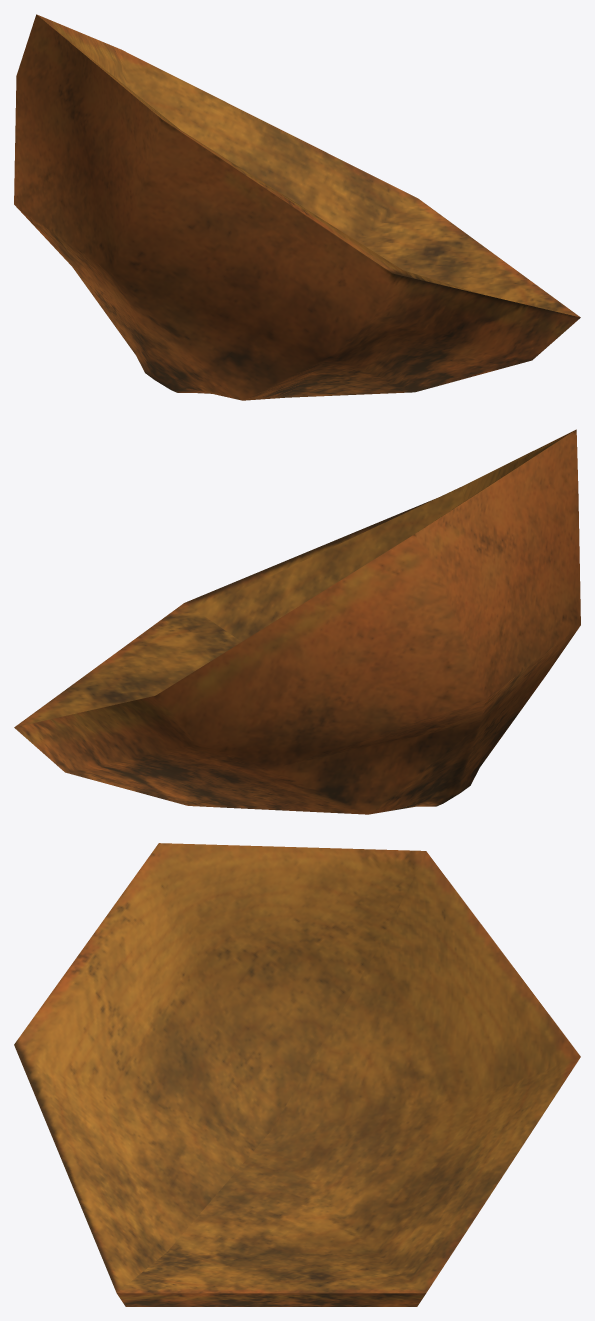
Rendered from uploads_files_4380637_Organic_Waste.fbx.
The picture shows the model from 3 angles, top to bottom: view 1: azimuth 30°, elevation 25°; view 2: azimuth 150°, elevation 25°; view 3: azimuth 270°, elevation 25°; orthographic projection. The views are drawn at different scales.
Visible parts, largest first — view 1: Orange_Peel_GEO; view 2: Orange_Peel_GEO; view 3: Orange_Peel_GEO.
Boxes of the visible parts, left/top/right/bottom form: Orange_Peel_GEO: left=14, top=14, right=580, bottom=400; Orange_Peel_GEO: left=14, top=429, right=580, bottom=814; Orange_Peel_GEO: left=14, top=843, right=580, bottom=1306.
Bounding box in the file's own units: 0.1045 × 0.0784 × 0.126.
